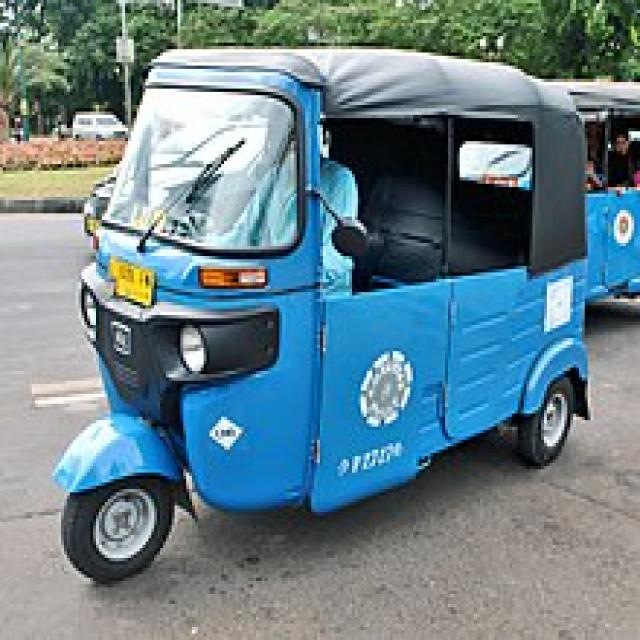autorickshaw: (55, 51, 589, 580), (550, 82, 640, 301)
